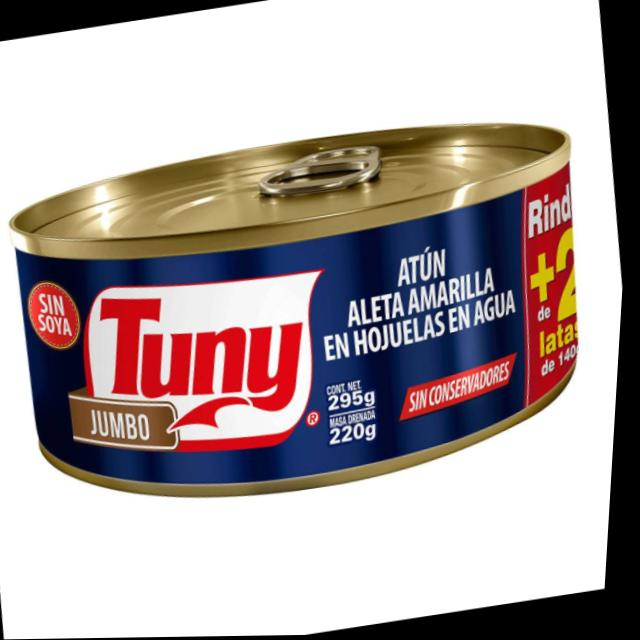Lata: (0, 111, 610, 523)
